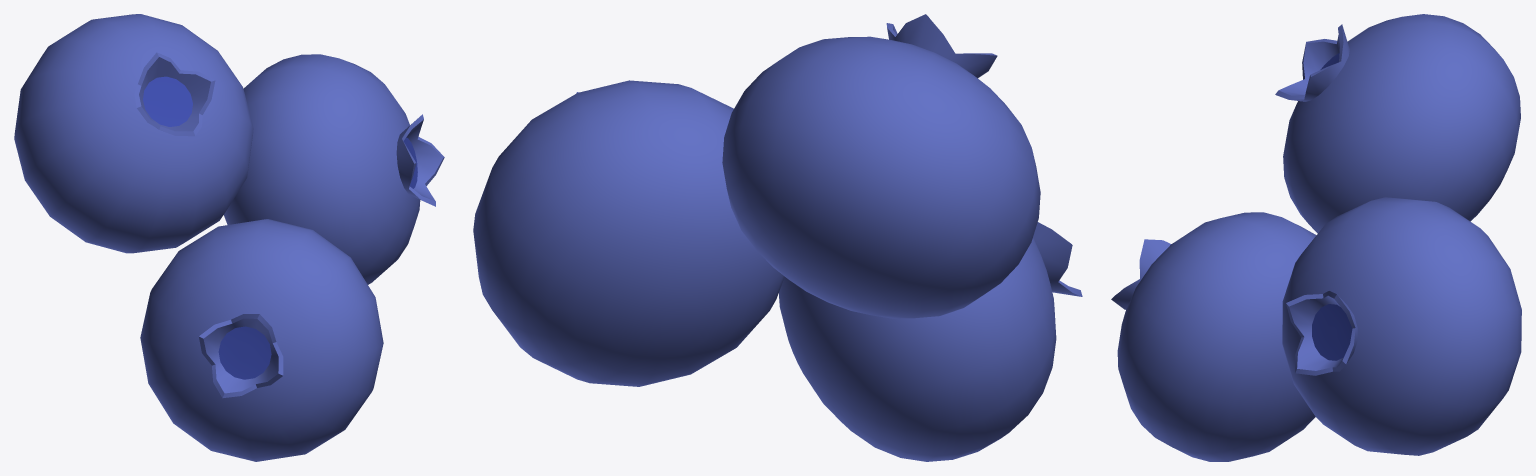
File: blueberries.glb
3 views of the same model, side by side, from view 1: azimuth 30°, elevation 25°; view 2: azimuth 150°, elevation 25°; view 3: azimuth 270°, elevation 25° (orthographic). The views are drawn at different scales.
Visible parts, largest first — view 1: Sphere.478, Sphere.477, Sphere.479; view 2: Sphere.477, Sphere.479, Sphere.478; view 3: Sphere.479, Sphere.477, Sphere.478.
Boxes of the visible parts, x1,y1,x2,y2 form: Sphere.478: (140,219,383,461); Sphere.477: (14,14,253,253); Sphere.479: (224,54,444,284); Sphere.477: (722,14,1040,318); Sphere.479: (473,80,784,386); Sphere.478: (779,222,1082,461); Sphere.479: (1282,197,1521,455); Sphere.477: (1275,14,1520,233); Sphere.478: (1111,212,1316,461).
Bounding box in the file's own units: 2.17 × 1.99 × 1.85.
1 material, 1 textured.
